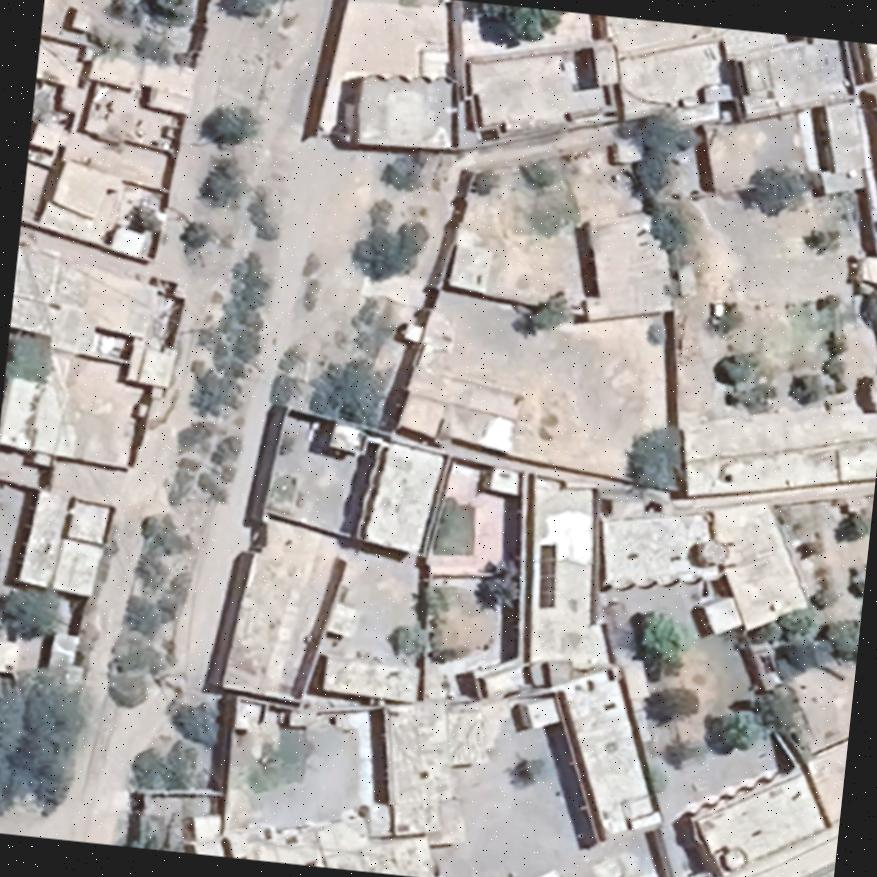Solarpanel: (537, 544, 556, 611)
